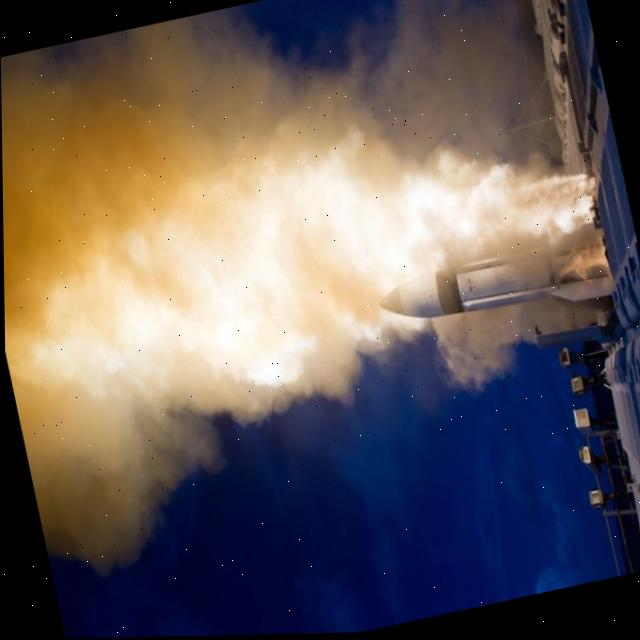missile: (363, 217, 617, 352)
